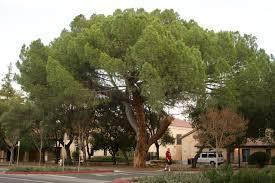tree: (28, 6, 254, 165)
